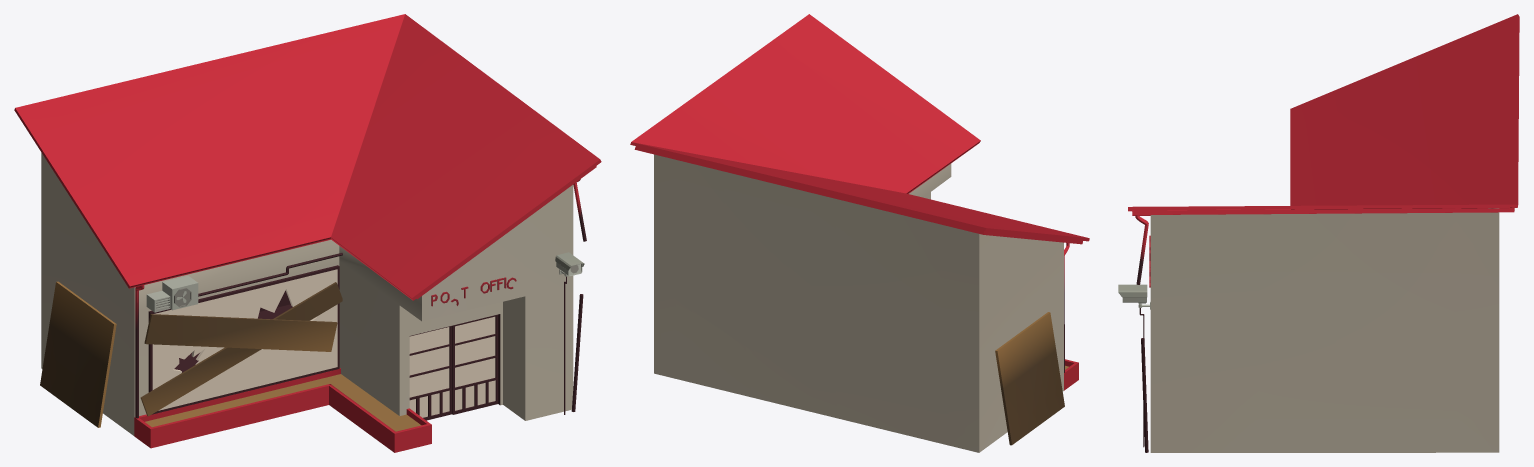
The model's file is postoffice.fbx.
3 renders of one model, left to right at view 1: azimuth 30°, elevation 25°; view 2: azimuth 150°, elevation 25°; view 3: azimuth 270°, elevation 25°, orthographic. The views are drawn at different scales.
Parts seen in each view (by area): view 1: postoffice:polySurface1218, polySurface1240, postoffice:polySurface1202, postoffice:polySurface1206, postoffice:polySurface1234, postoffice:polySurface1236, postoffice:polySurface1230, postoffice:polySurface1235, postoffice:polySurface1233, postoffice:polySurface1201; view 2: polySurface1240, postoffice:polySurface1218, postoffice:polySurface1234; view 3: polySurface1240, postoffice:polySurface1218, postoffice:polySurface1220, postoffice:polySurface1222.
Part boxes in pixels (x1,y1,x2,y2): postoffice:polySurface1218: [14, 14, 601, 300]; polySurface1240: [41, 153, 573, 435]; postoffice:polySurface1202: [148, 265, 339, 414]; postoffice:polySurface1206: [134, 368, 431, 452]; postoffice:polySurface1234: [40, 281, 116, 427]; postoffice:polySurface1236: [144, 314, 337, 351]; postoffice:polySurface1230: [452, 314, 498, 414]; postoffice:polySurface1235: [409, 326, 452, 420]; postoffice:polySurface1233: [140, 282, 342, 416]; postoffice:polySurface1201: [162, 275, 198, 310]; polySurface1240: [654, 154, 1063, 452]; postoffice:polySurface1218: [630, 14, 1089, 244]; postoffice:polySurface1234: [995, 312, 1064, 445]; polySurface1240: [1150, 208, 1499, 452]; postoffice:polySurface1218: [1128, 14, 1519, 215]; postoffice:polySurface1220: [1141, 338, 1148, 452]; postoffice:polySurface1222: [1118, 284, 1147, 297].
Size of the model in its own units: 73.36 by 46.05 by 65.12.
Materials: 2 (1 with a texture image).
